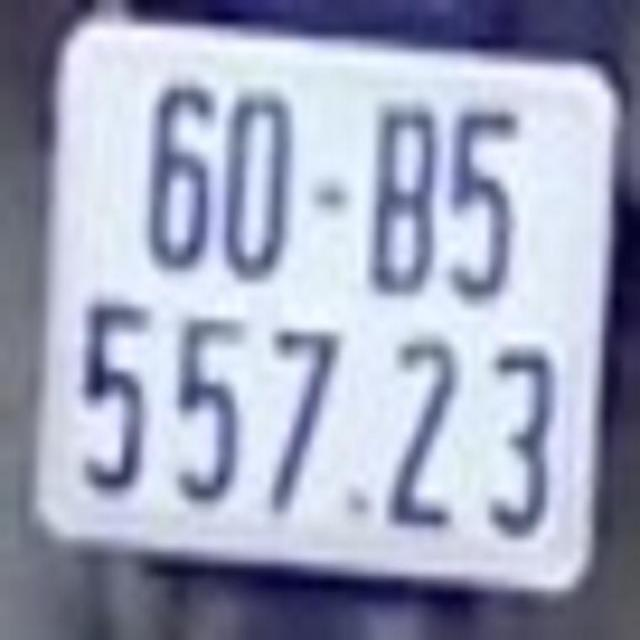0: (219, 79, 287, 283)
2: (388, 321, 463, 537)
3: (490, 328, 552, 546)
5: (172, 297, 242, 513), (445, 96, 518, 301), (81, 292, 149, 490)
6: (145, 72, 212, 271)
7: (264, 306, 340, 521)
B: (371, 97, 437, 298)
